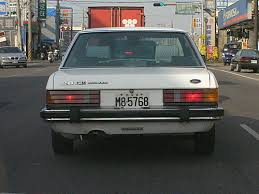LP: (100, 89, 163, 109)
